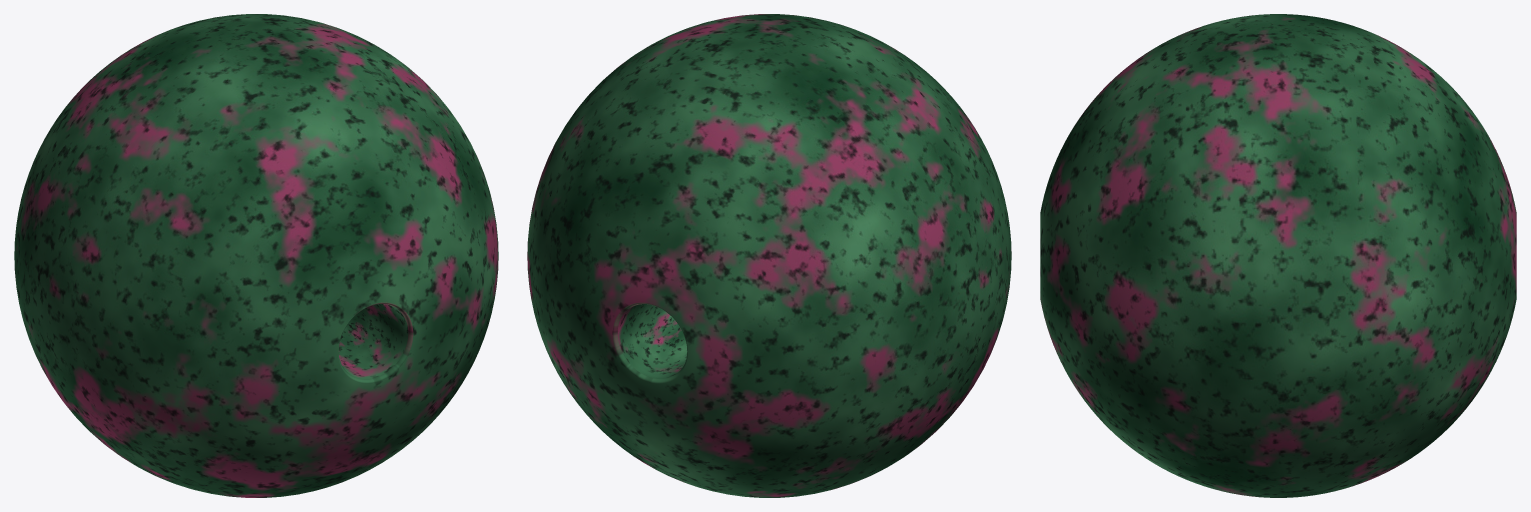
File: ruby-zoisite-6mm.glb
3 views of the same model, side by side, from view 1: azimuth 30°, elevation 25°; view 2: azimuth 150°, elevation 25°; view 3: azimuth 270°, elevation 25° (orthographic).
Visible parts, largest first — view 1: ruby-zoisite.001; view 2: ruby-zoisite.001; view 3: ruby-zoisite.001.
Boxes of the visible parts, x1=… form: ruby-zoisite.001: x1=14, y1=14, x2=498, y2=497; ruby-zoisite.001: x1=527, y1=14, x2=1011, y2=497; ruby-zoisite.001: x1=1040, y1=14, x2=1516, y2=497.
Bounding box in the file's own units: 0.006 × 0.006 × 0.0059.
Materials: 1 (1 with a texture image).
